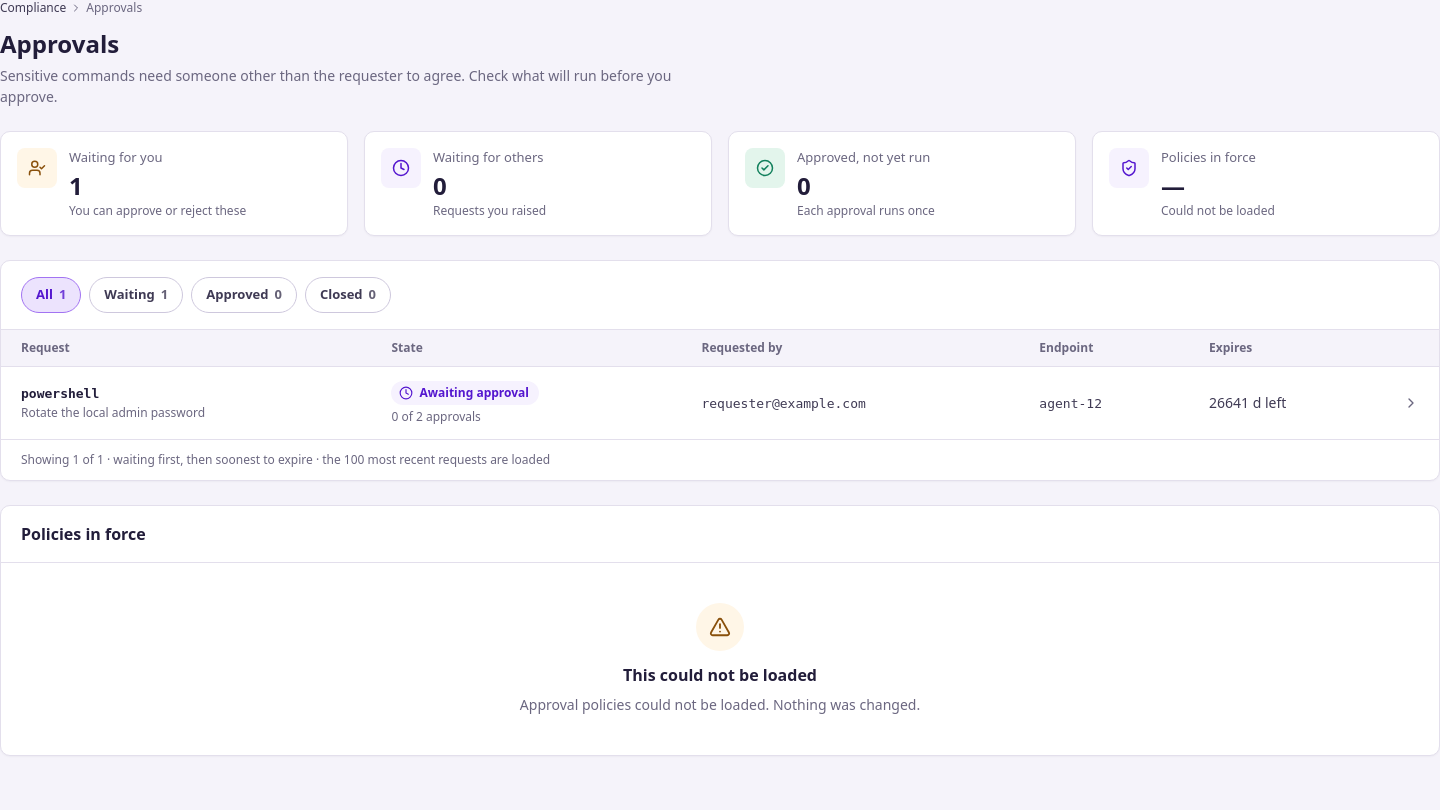
it: the drawer shows what will run, the fingerprint and that approval is bound to it
The image size is (1440, 810).
Click the row named "Review powershell request" at (720, 403), box [1,366,1439,439]
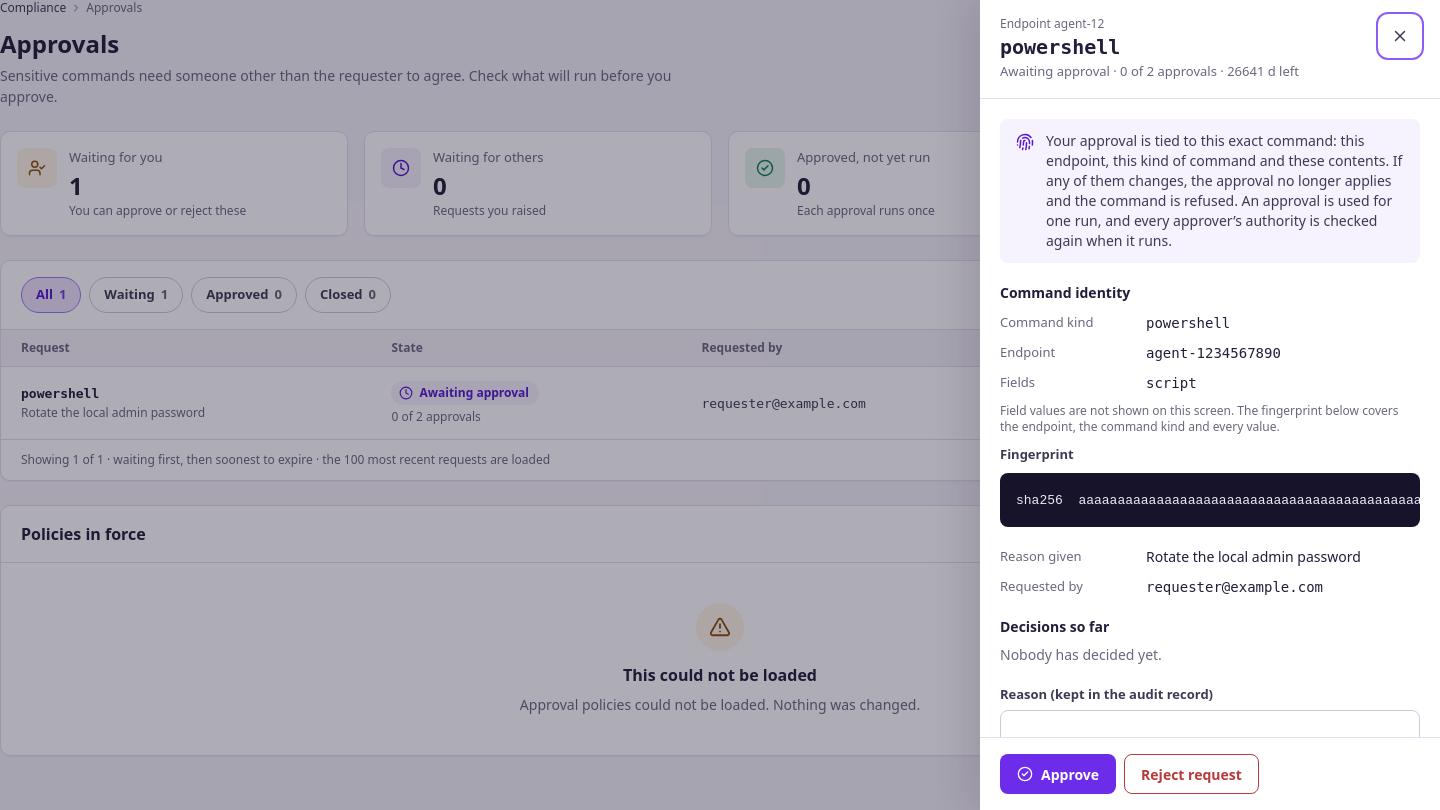
Now the heading "Command identity" is shown, box [1000,282,1130,302]
Now the text "script" is shown, box [1146,374,1197,390]
